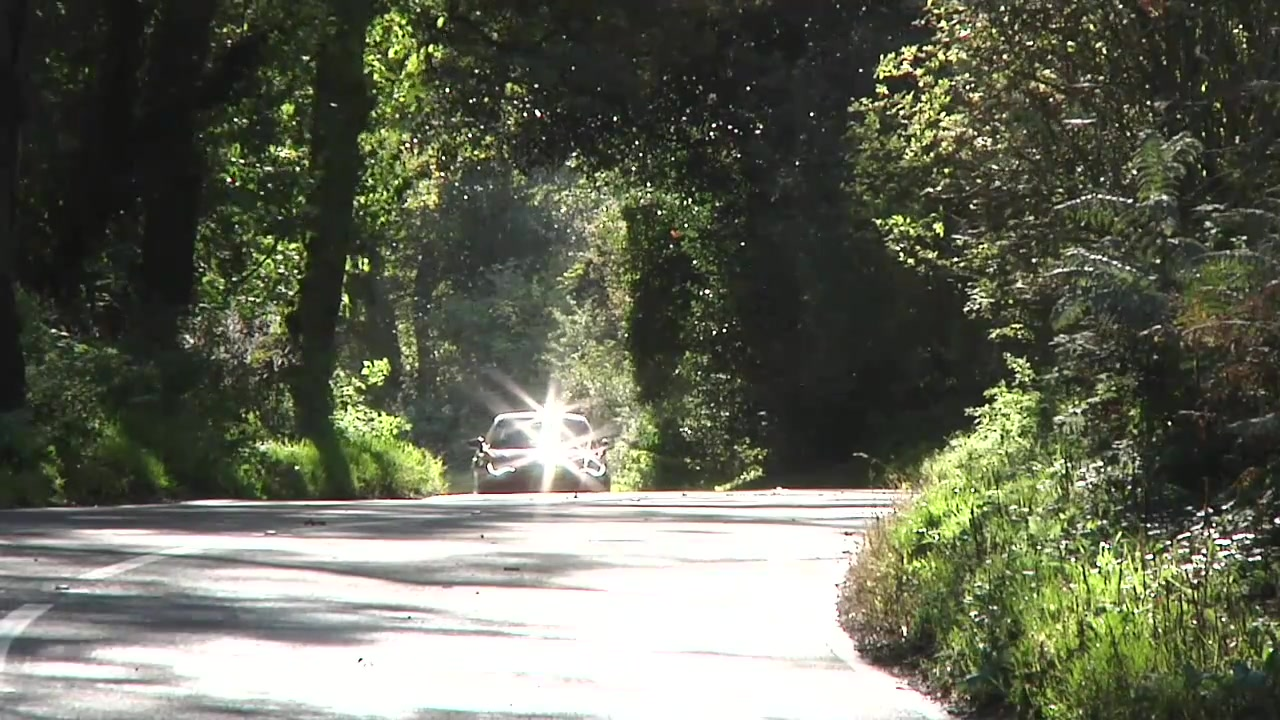car: (459, 409, 618, 503)
